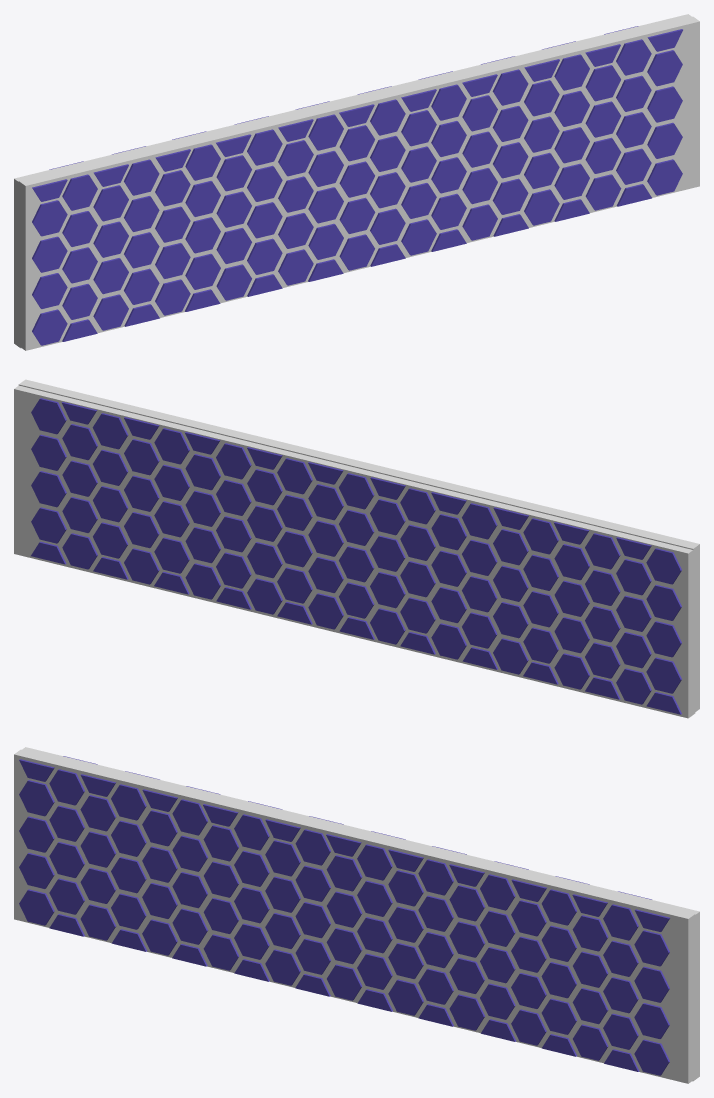
File: ciftyuzluduvar.fbx
3 renders of one model, top to bottom at view 1: azimuth 30°, elevation 25°; view 2: azimuth 150°, elevation 25°; view 3: azimuth 330°, elevation 25°, orthographic.
Visible parts, largest first — view 1: Cube.007; view 2: Cube.007; view 3: Cube.007.
Boxes of the visible parts, x1,y1,x2,y2 form: Cube.007: (14,14,699,350); Cube.007: (14,379,699,718); Cube.007: (14,747,699,1083).
Size of the model in its own units: 4351 by 1023 by 158.
